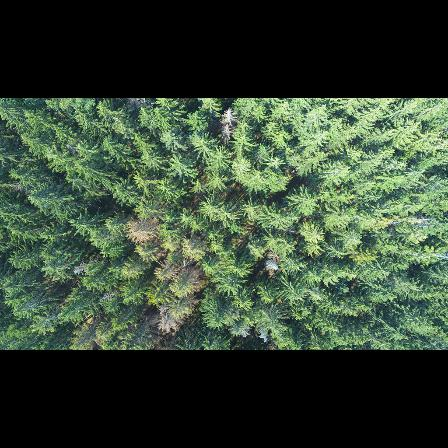Dead: (123, 214, 162, 244), (154, 308, 183, 334), (218, 108, 238, 139), (262, 254, 282, 274), (71, 260, 93, 276)
